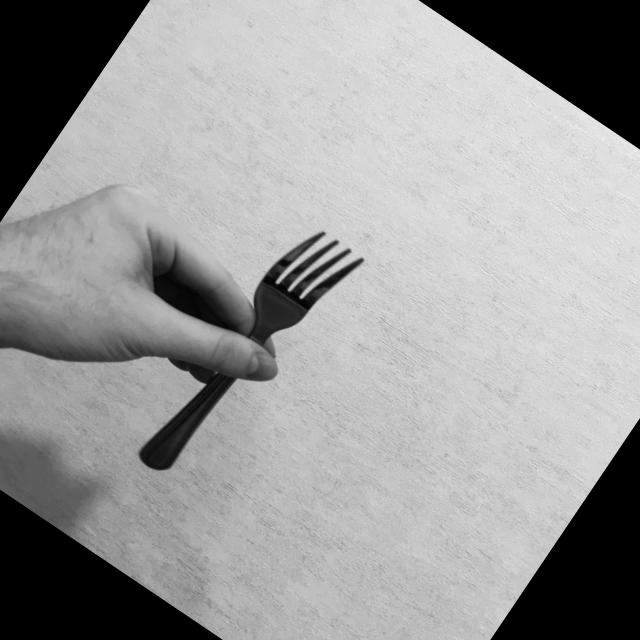fork: (135, 212, 369, 504)
